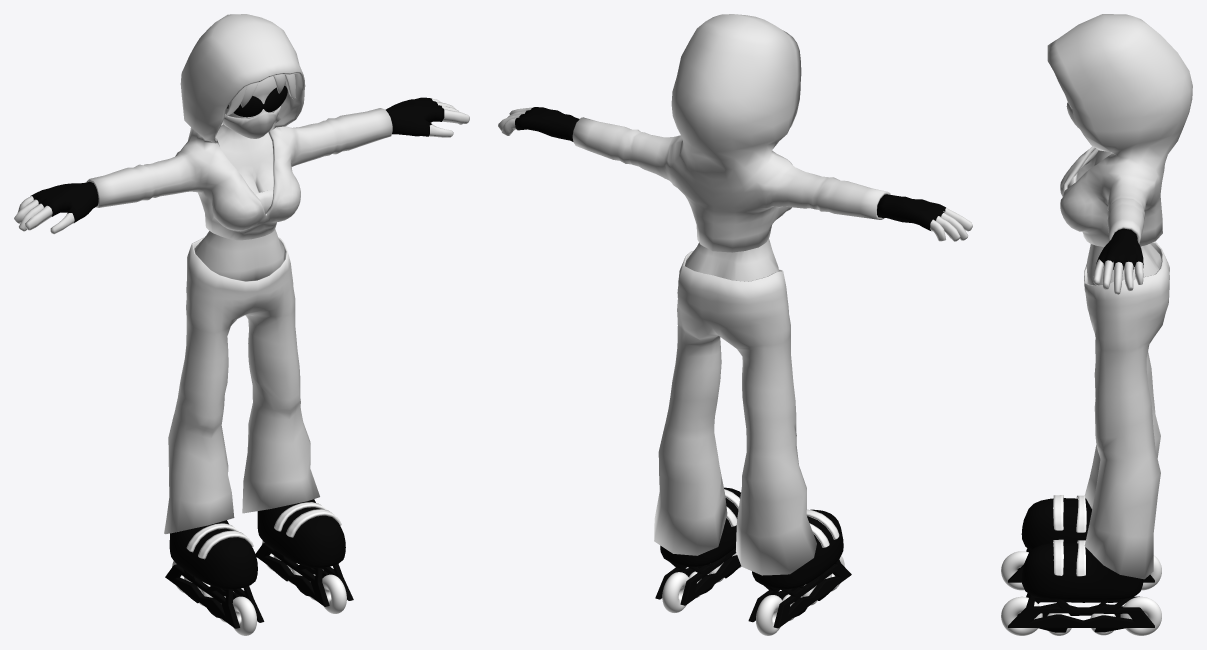
The model's file is CartoonModelUpdateNewSkatesTest3.fbx.
3 renders of one model, left to right at view 1: azimuth 30°, elevation 25°; view 2: azimuth 150°, elevation 25°; view 3: azimuth 270°, elevation 25°, orthographic. The views are drawn at different scales.
Parts seen in each view (by area): view 1: Skater_LowPoly; view 2: Skater_LowPoly; view 3: Skater_LowPoly.
Boxes of the visible parts, x1,y1,x2,y2 form: Skater_LowPoly: (14,14,469,635); Skater_LowPoly: (498,14,972,635); Skater_LowPoly: (1001,14,1192,635).
Size of the model in its own units: 151 by 185 by 54.23.
